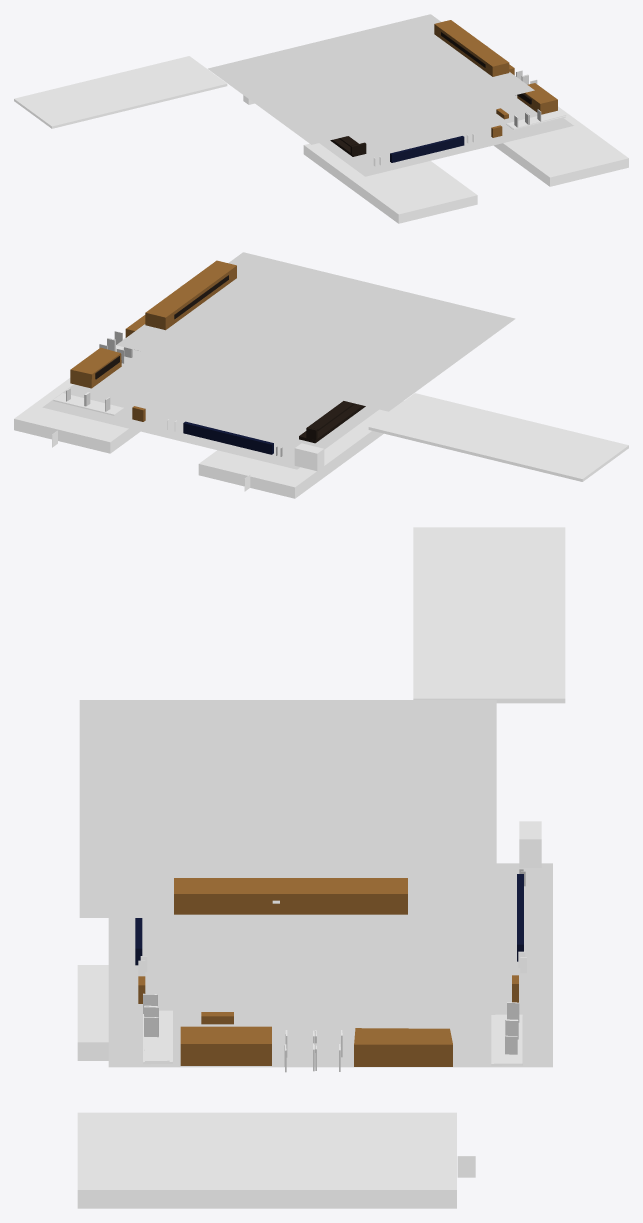
Rendered from bellevue.glb.
The picture shows the model from 3 angles, top to bottom: view 1: azimuth 30°, elevation 25°; view 2: azimuth 150°, elevation 25°; view 3: azimuth 270°, elevation 25°; orthographic projection. The views are drawn at different scales.
Visible parts, largest first — view 1: cafeen, foyeren.001, tagteresse, sydtoilet, nordtoilet, øvrebar, sydgarderobe, billetkontor, scenen, trappe; view 2: cafeen, foyeren.001, tagteresse, sydtoilet, nordtoilet, øvrebar, foyerbar, nordgarderobe, scenen, handicaptoilet, trappe.002; view 3: cafeen, foyeren.001, nordtoilet, tagteresse, øvrebar, foyerbar, billetkontor, sydtoilet, trappe.002, handicaptoilet, trappe.
Part boxes in pixels (x1,y1,x2,y2): cafeen: (208, 14, 534, 144); foyeren.001: (319, 95, 573, 176); tagteresse: (14, 56, 227, 128); sydtoilet: (303, 143, 477, 223); nordtoilet: (494, 106, 628, 186); øvrebar: (434, 20, 509, 76); sydgarderobe: (390, 136, 464, 162); billetkontor: (517, 83, 557, 114); scenen: (330, 136, 366, 156); trappe: (508, 110, 566, 128); cafeen: (116, 252, 515, 411); foyeren.001: (42, 348, 378, 469); tagteresse: (368, 393, 628, 481); sydtoilet: (198, 401, 403, 498); nordtoilet: (14, 337, 140, 453); øvrebar: (145, 260, 236, 330); foyerbar: (70, 347, 121, 388); nordgarderobe: (183, 421, 273, 454); scenen: (299, 401, 365, 443); handicaptoilet: (294, 443, 324, 471); trappe.002: (53, 393, 123, 415); cafeen: (79, 700, 496, 917); foyeren.001: (108, 863, 552, 1067); nordtoilet: (77, 1112, 456, 1208); tagteresse: (413, 527, 565, 703); øvrebar: (174, 878, 407, 914); foyerbar: (354, 1028, 452, 1066); billetkontor: (180, 1026, 271, 1065); sydtoilet: (77, 965, 108, 1060); trappe.002: (491, 1014, 522, 1065); handicaptoilet: (519, 821, 541, 867); trappe: (144, 1010, 169, 1062).
Size of the model in its own units: 302 by 66.05 by 129.
